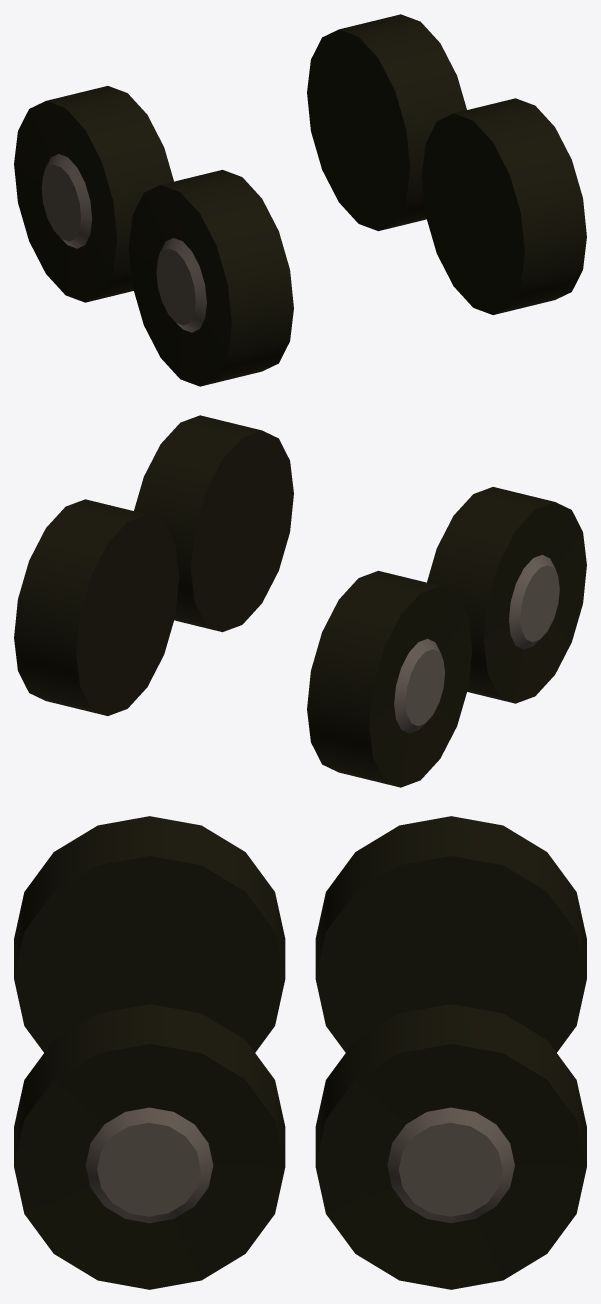
File: military_veh2_wheels.fbx
3 views of the same model, one above another, from view 1: azimuth 30°, elevation 25°; view 2: azimuth 150°, elevation 25°; view 3: azimuth 270°, elevation 25° (orthographic). The views are drawn at different scales.
Parts seen in each view (by area): view 1: military_veh2_wheels; view 2: military_veh2_wheels; view 3: military_veh2_wheels.
Part boxes in pixels (<box>): military_veh2_wheels: <box>14,14,586,386</box>; military_veh2_wheels: <box>14,415,586,787</box>; military_veh2_wheels: <box>14,816,586,1289</box>.
Bounding box in the file's own units: 230 × 113 × 239.
